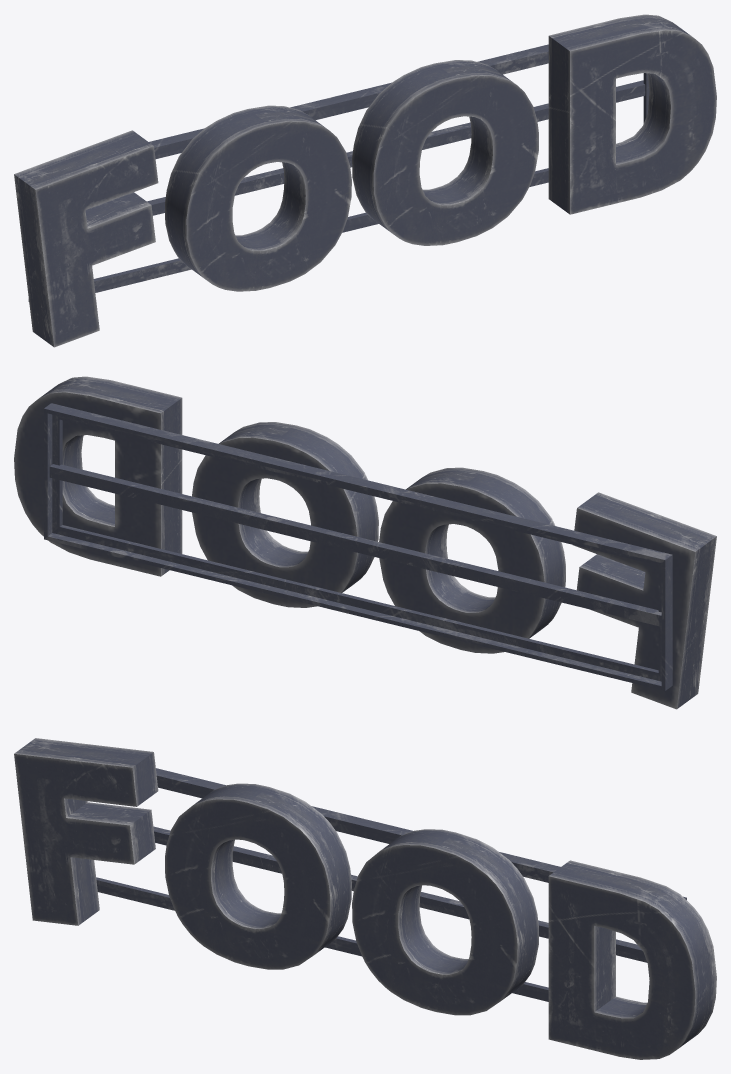
The model's file is Food1.fbx.
3 renders of one model, top to bottom at view 1: azimuth 30°, elevation 25°; view 2: azimuth 150°, elevation 25°; view 3: azimuth 330°, elevation 25°, orthographic.
Visible parts, largest first — view 1: polySurface270; view 2: polySurface270; view 3: polySurface270.
Part boxes in pixels (box(x1,y1,x2,y2)): polySurface270: box(14, 14, 716, 347); polySurface270: box(14, 376, 716, 709); polySurface270: box(14, 738, 716, 1059).
Bounding box in the file's own units: 364 × 90.43 × 27.02.
1 material, 1 textured.
